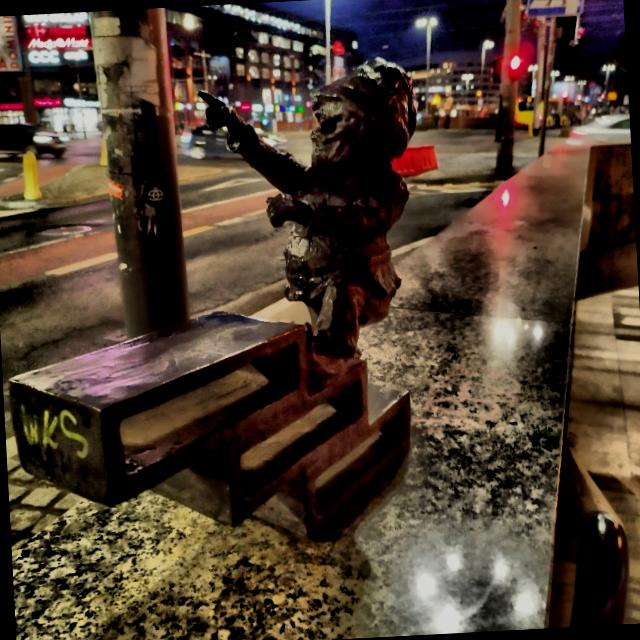Elementek: (10, 59, 416, 536)
